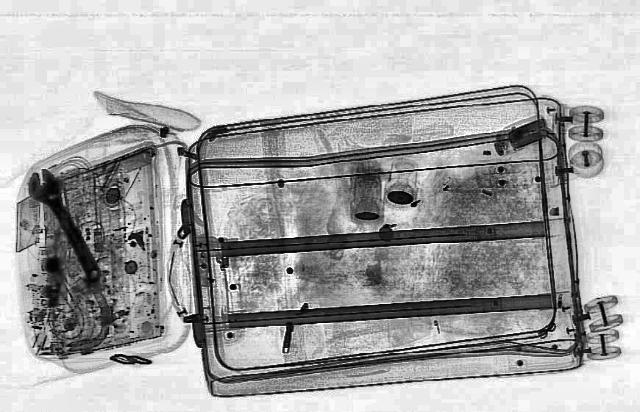Wrench: (16, 166, 116, 286)
